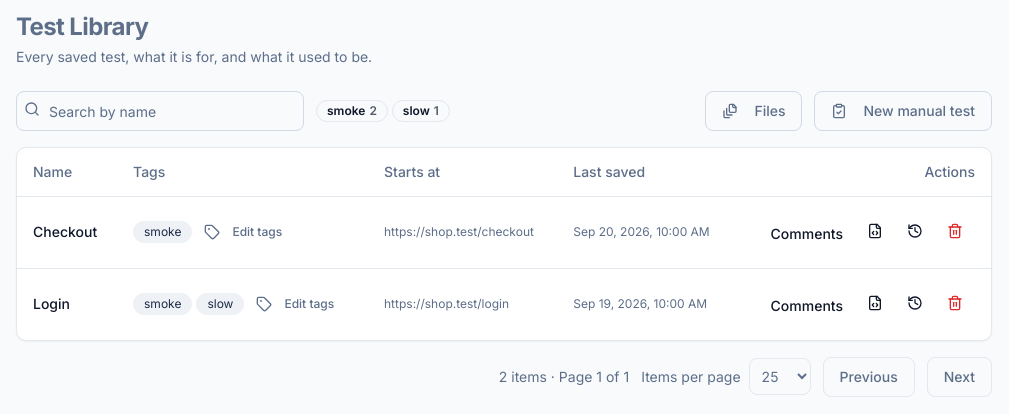
Test: TestLibraryPage › narrows by name
Expected: the text "Checkout" is shown, [17,196,117,268]
Type "log" into the field labelled "Search by name" at (160, 111), box [16,91,304,131]
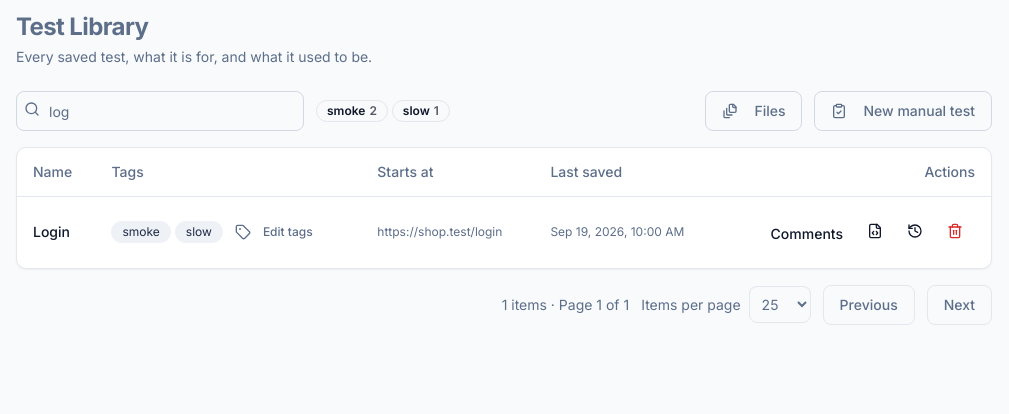
Expected: the text "Login" is shown, [17,196,96,268]
Result: the text "Checkout" is gone
